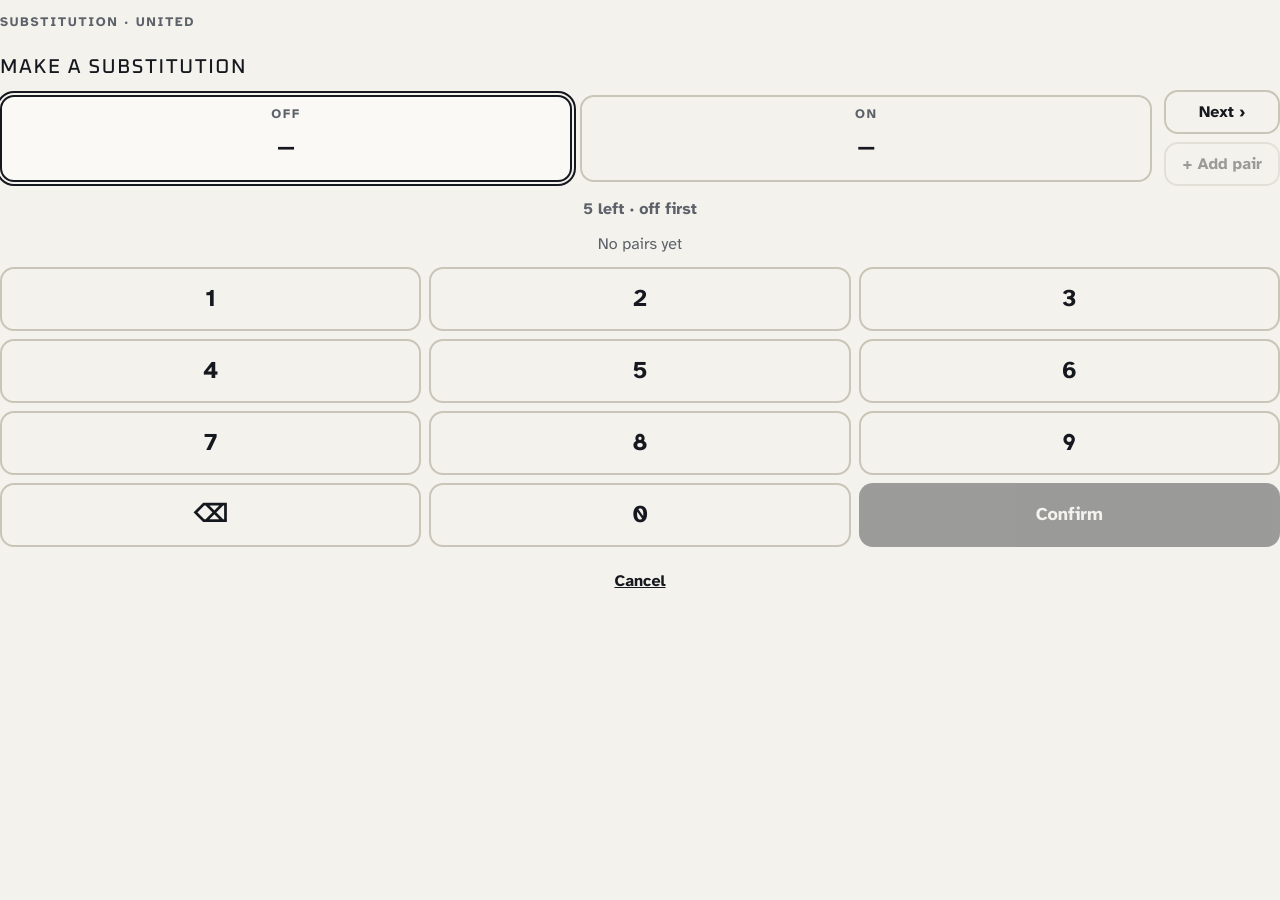
Test: SubSheet › selects a field by clicking it, and digits still type into it
Click the button "On –" at [866, 138], box [580,95,1152,182]
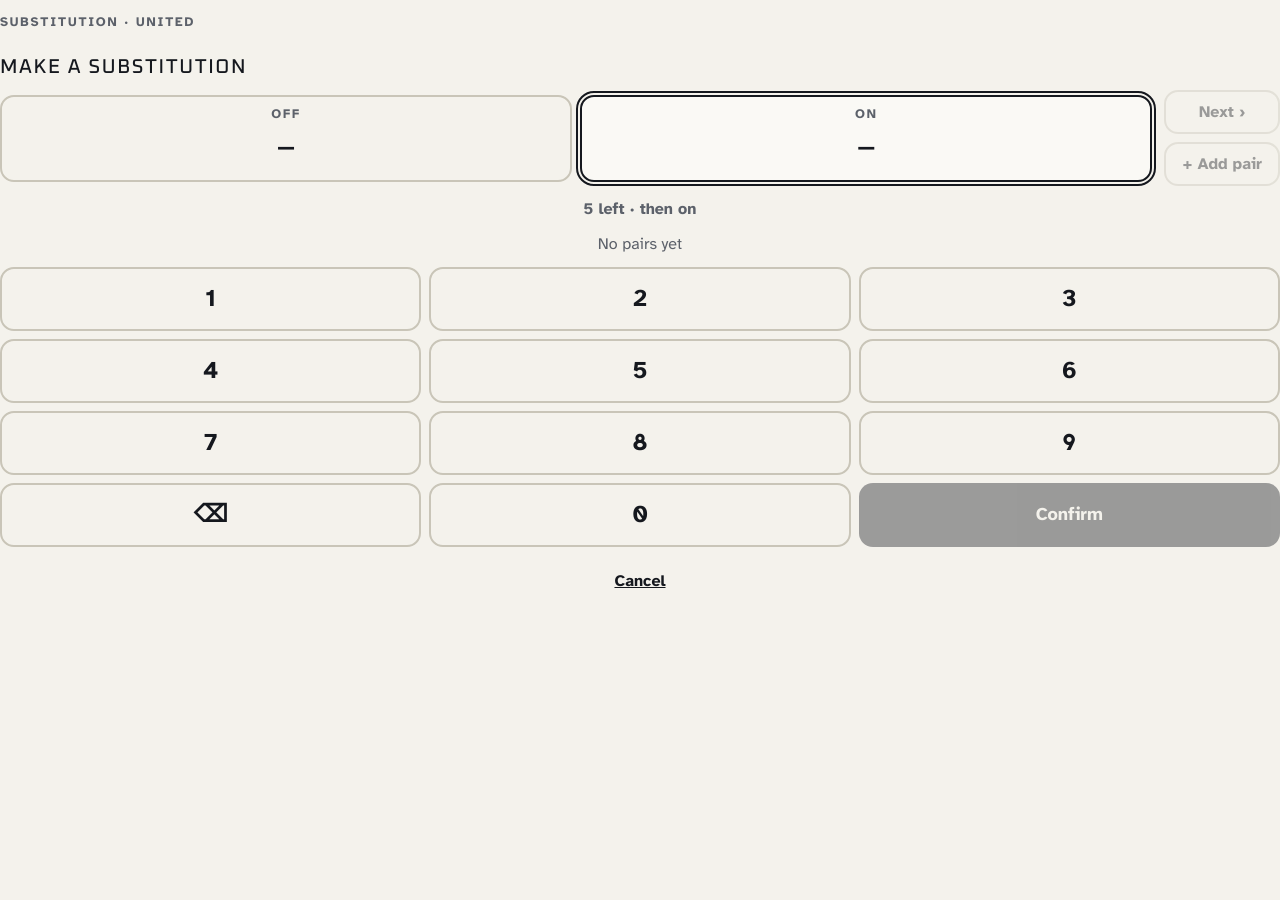
Now the button "On –" is pressed, box [580,95,1152,182]
Now the button "Off –" is not pressed, box [0,95,572,182]
Type keys "7"
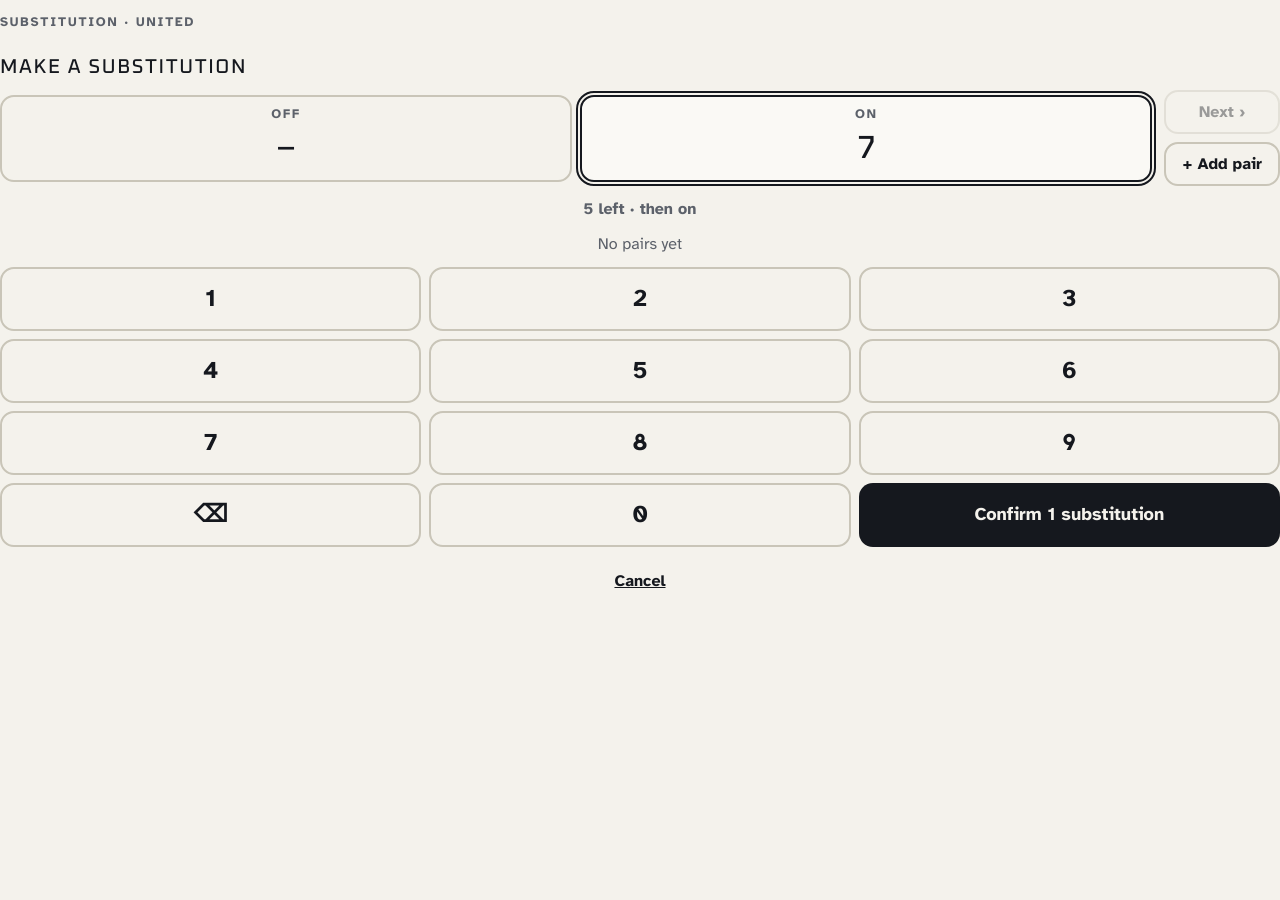
Now the button "On 7" is shown, box [580,95,1152,182]
